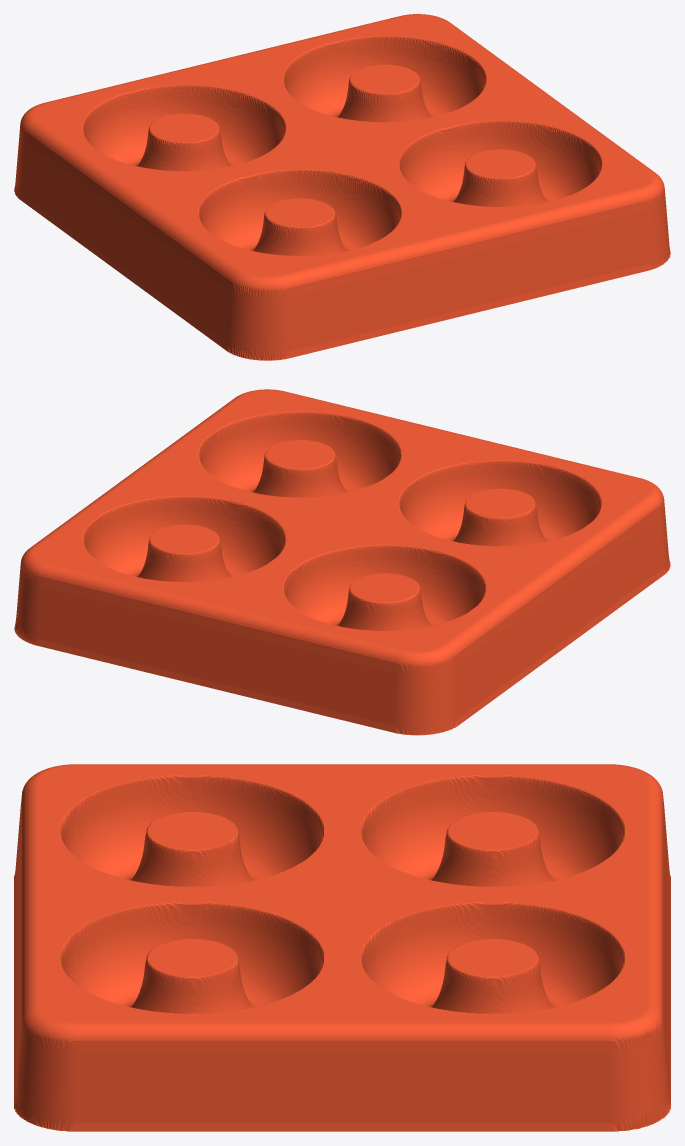
File: mold.glb
3 views of the same model, one above another, from view 1: azimuth 30°, elevation 25°; view 2: azimuth 150°, elevation 25°; view 3: azimuth 270°, elevation 25° (orthographic). The views are drawn at different scales.
Visible parts, largest first — view 1: geometry_0; view 2: geometry_0; view 3: geometry_0.
Boxes of the visible parts, x1,y1,x2,y2 form: geometry_0: [14, 14, 670, 360]; geometry_0: [14, 389, 670, 735]; geometry_0: [14, 764, 670, 1131].
Bounding box in the file's own units: 0.0962 × 0.0159 × 0.0962.
